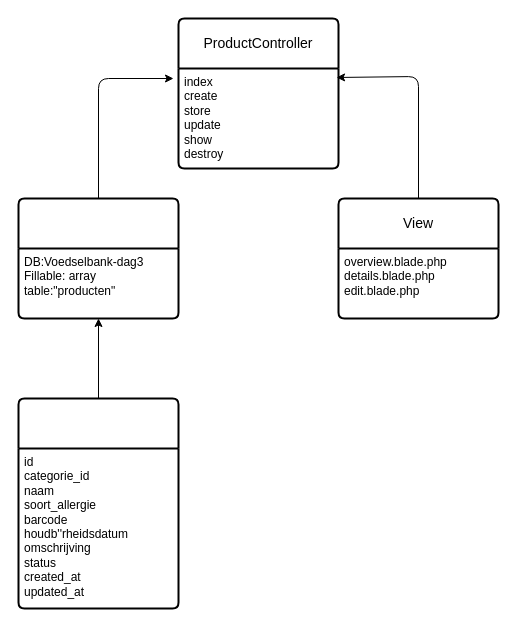
Some shapes in this 516 by 626 pixel diagram are drawn without their labels. Here are the shapes that lost their labels. From the top down, the box of each, then its label:
(17, 197, 179, 319): Model
(17, 397, 179, 609): Voedselbank-dag3 (Database)
